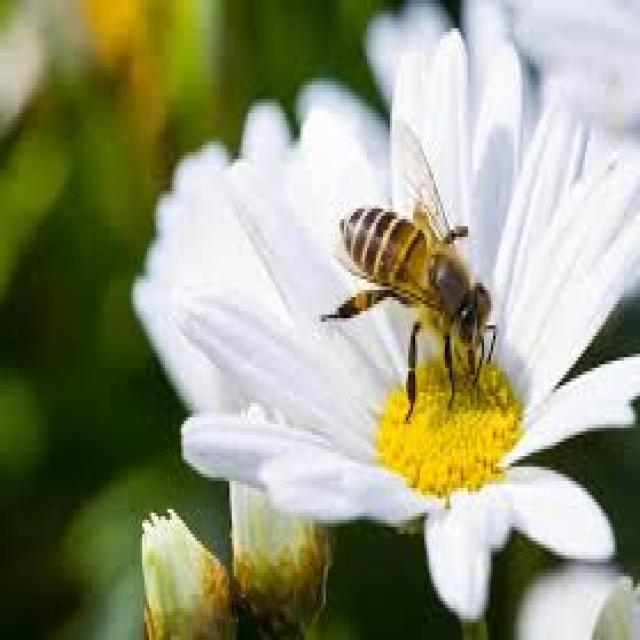Bees: (323, 117, 500, 424)
